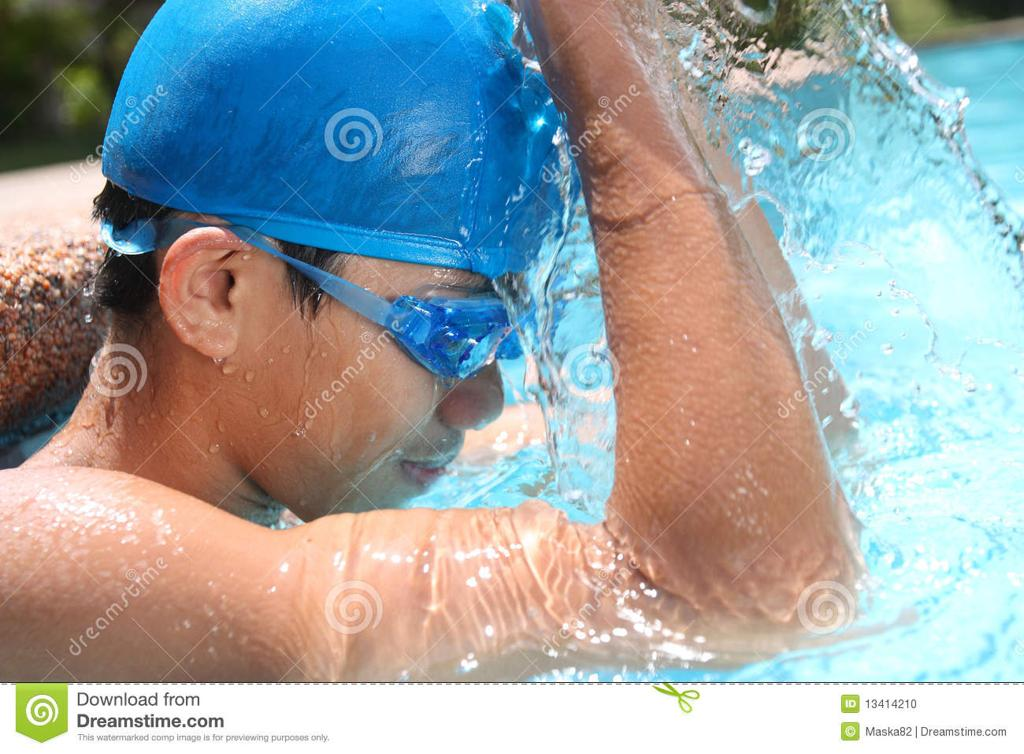face: (300, 228, 512, 524)
